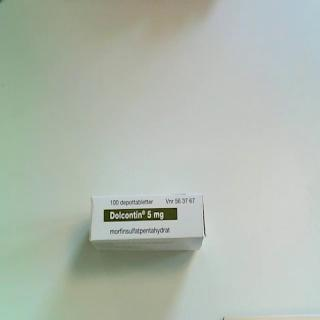dolcontin5mg: (89, 192, 209, 256)
